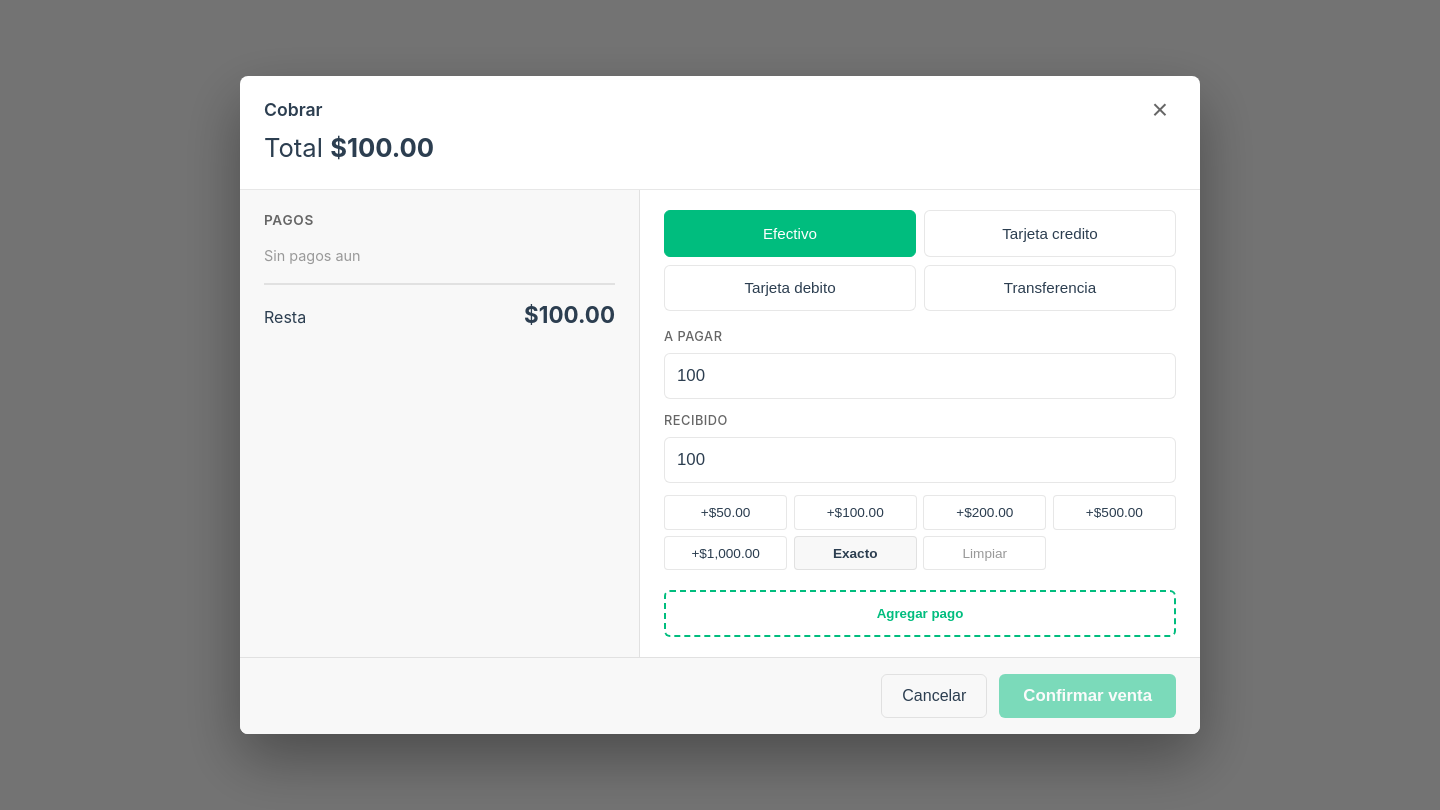
Test: PaymentModal › setExact iguala Recibido al monto A pagar
The width and height of the screenshot is (1440, 810).
Replace the text in the field labelled "Recibido" with "500" at (920, 460), box [664,437,1176,483]
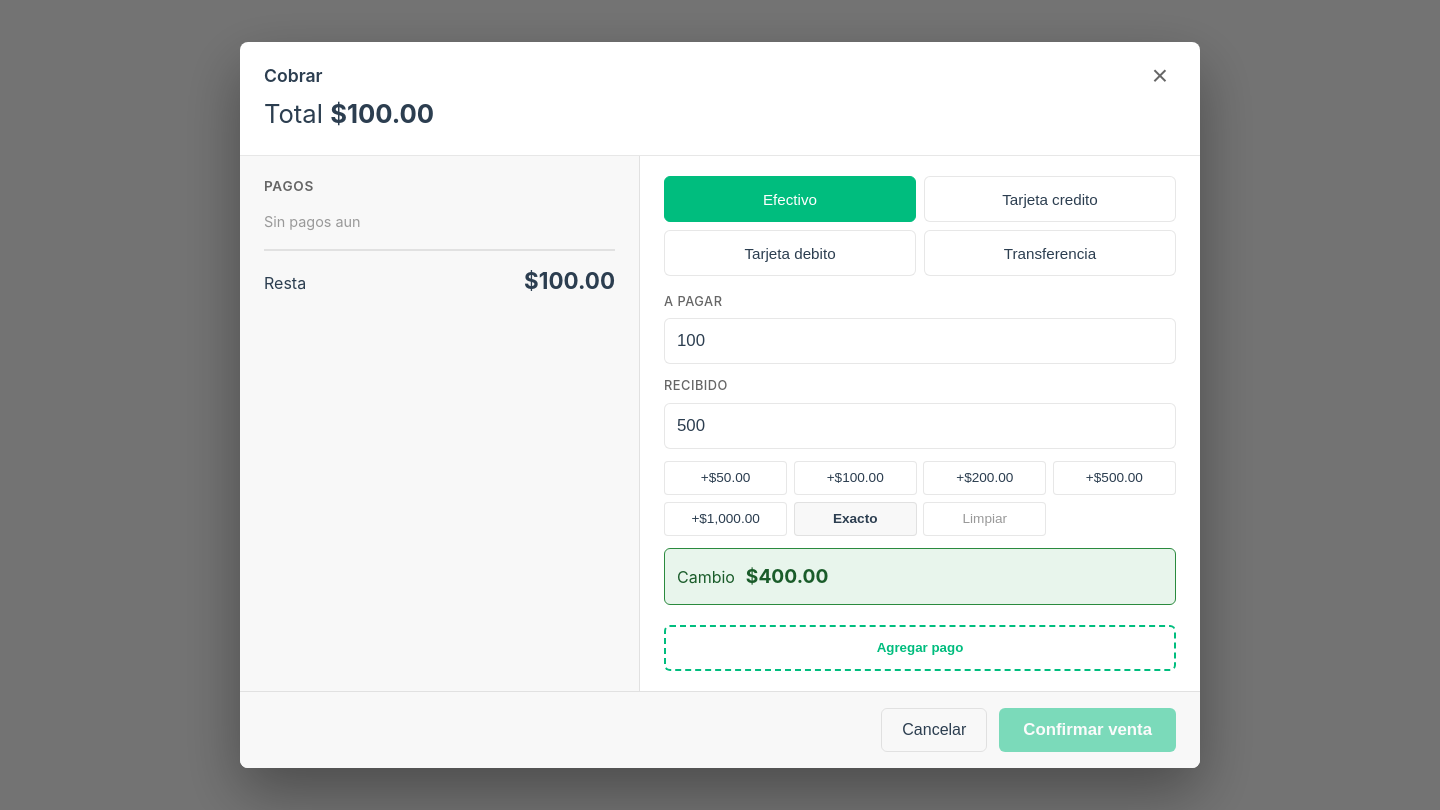
Click the button "Exacto" at (855, 519), box [794,502,917,536]
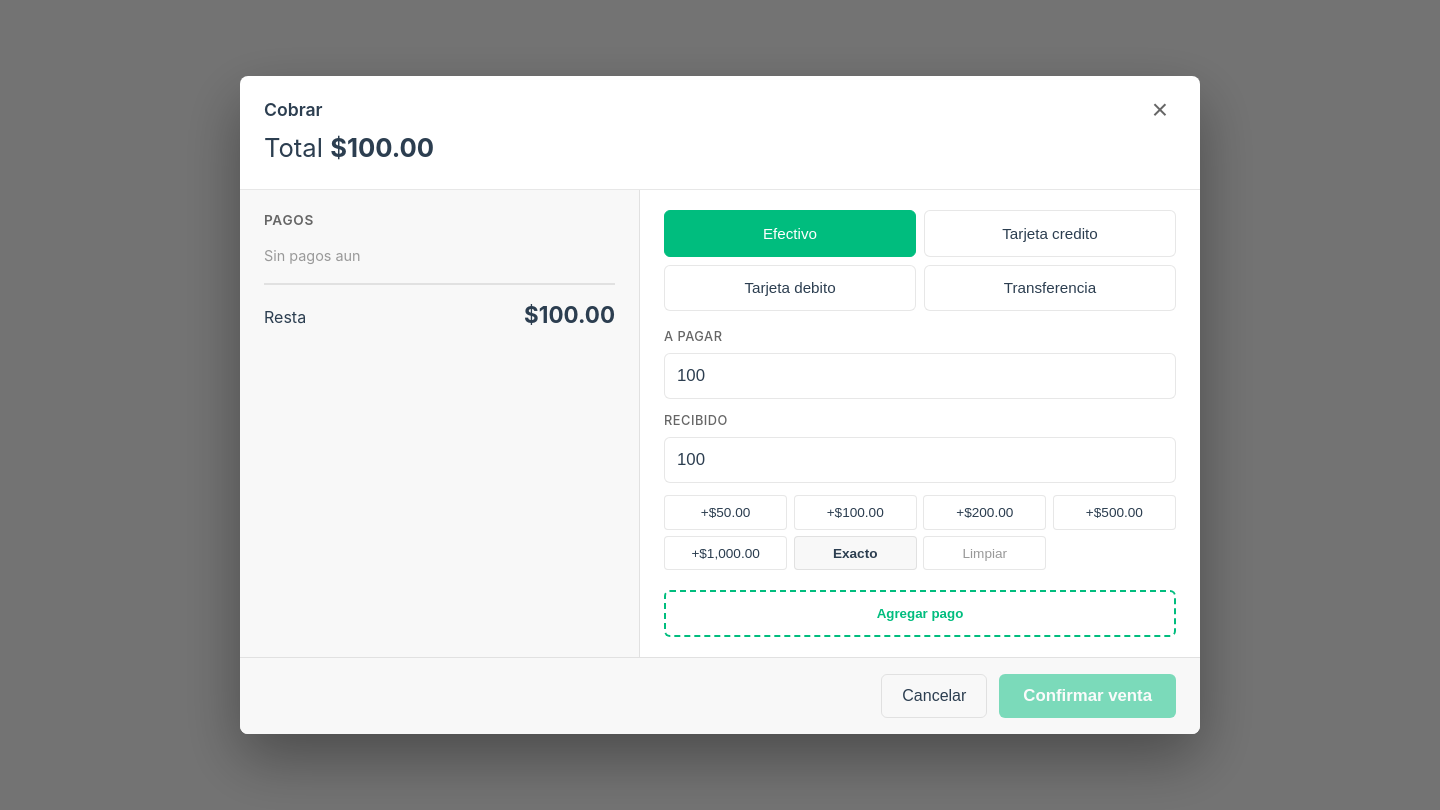
Expected: the field labelled "Recibido" holds "100", [664,437,1176,483]
